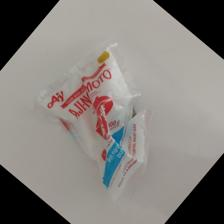Ajinomoto: (35, 38, 159, 205)
